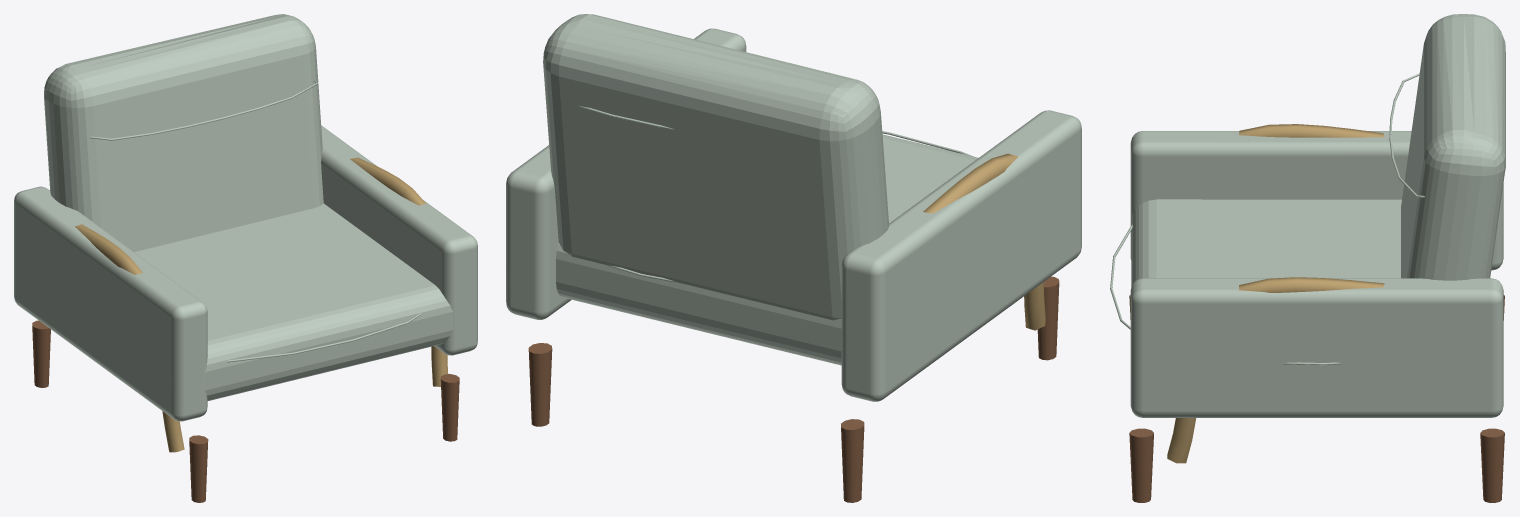
Rendered from chair-1-2.glb.
The picture shows the model from 3 angles, left to right: view 1: azimuth 30°, elevation 25°; view 2: azimuth 150°, elevation 25°; view 3: azimuth 270°, elevation 25°; orthographic projection. The views are drawn at different scales.
Visible parts, largest first — view 1: tailored-cushion, part (×2); view 2: tailored-cushion, part (×2); view 3: tailored-cushion, part (×2).
Boxes of the visible parts, box(x1,y1,x2,y2) form: tailored-cushion: box(14, 14, 477, 421); part (×2): box(32, 157, 459, 502); tailored-cushion: box(506, 14, 1081, 401); part (×2): box(528, 153, 1059, 502); tailored-cushion: box(1110, 14, 1505, 417); part (×2): box(1129, 124, 1504, 502).
Size of the model in its own units: 1 by 1 by 1.
